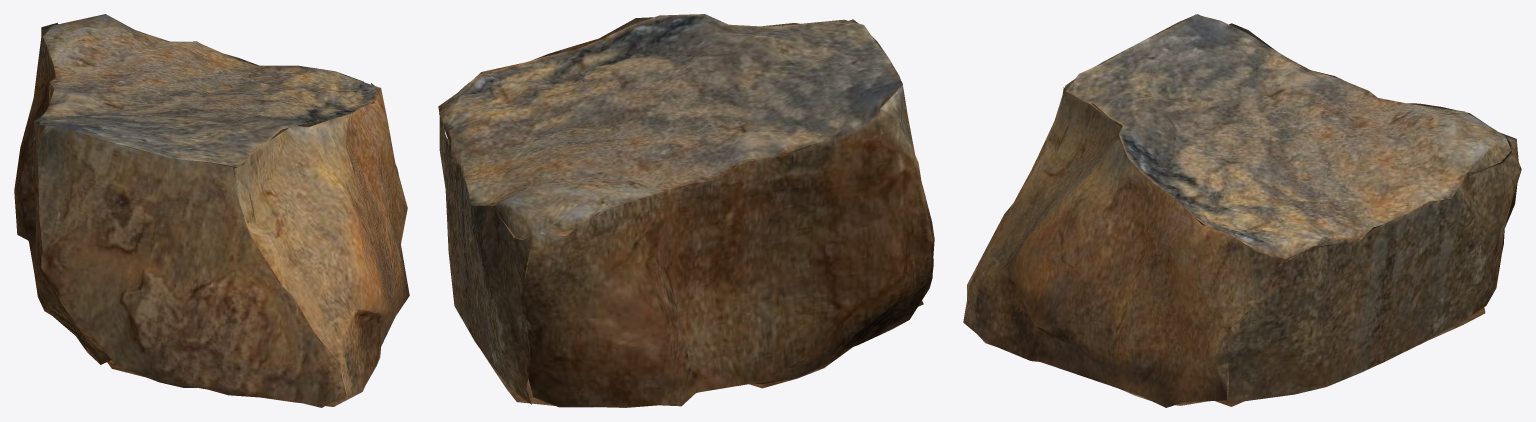
File: namaqualand_boulder_03.glb
3 views of the same model, side by side, from view 1: azimuth 30°, elevation 25°; view 2: azimuth 150°, elevation 25°; view 3: azimuth 270°, elevation 25° (orthographic). The views are drawn at different scales.
Parts seen in each view (by area): view 1: boulder_03_LOD0; view 2: boulder_03_LOD0; view 3: boulder_03_LOD0.
Boxes of the visible parts, x1,y1,x2,y2 form: boulder_03_LOD0: [14, 14, 409, 407]; boulder_03_LOD0: [438, 14, 934, 407]; boulder_03_LOD0: [963, 14, 1521, 407].
Bounding box in the file's own units: 2.41 × 1.46 × 3.08.
Materials: 1 (1 with a texture image).
